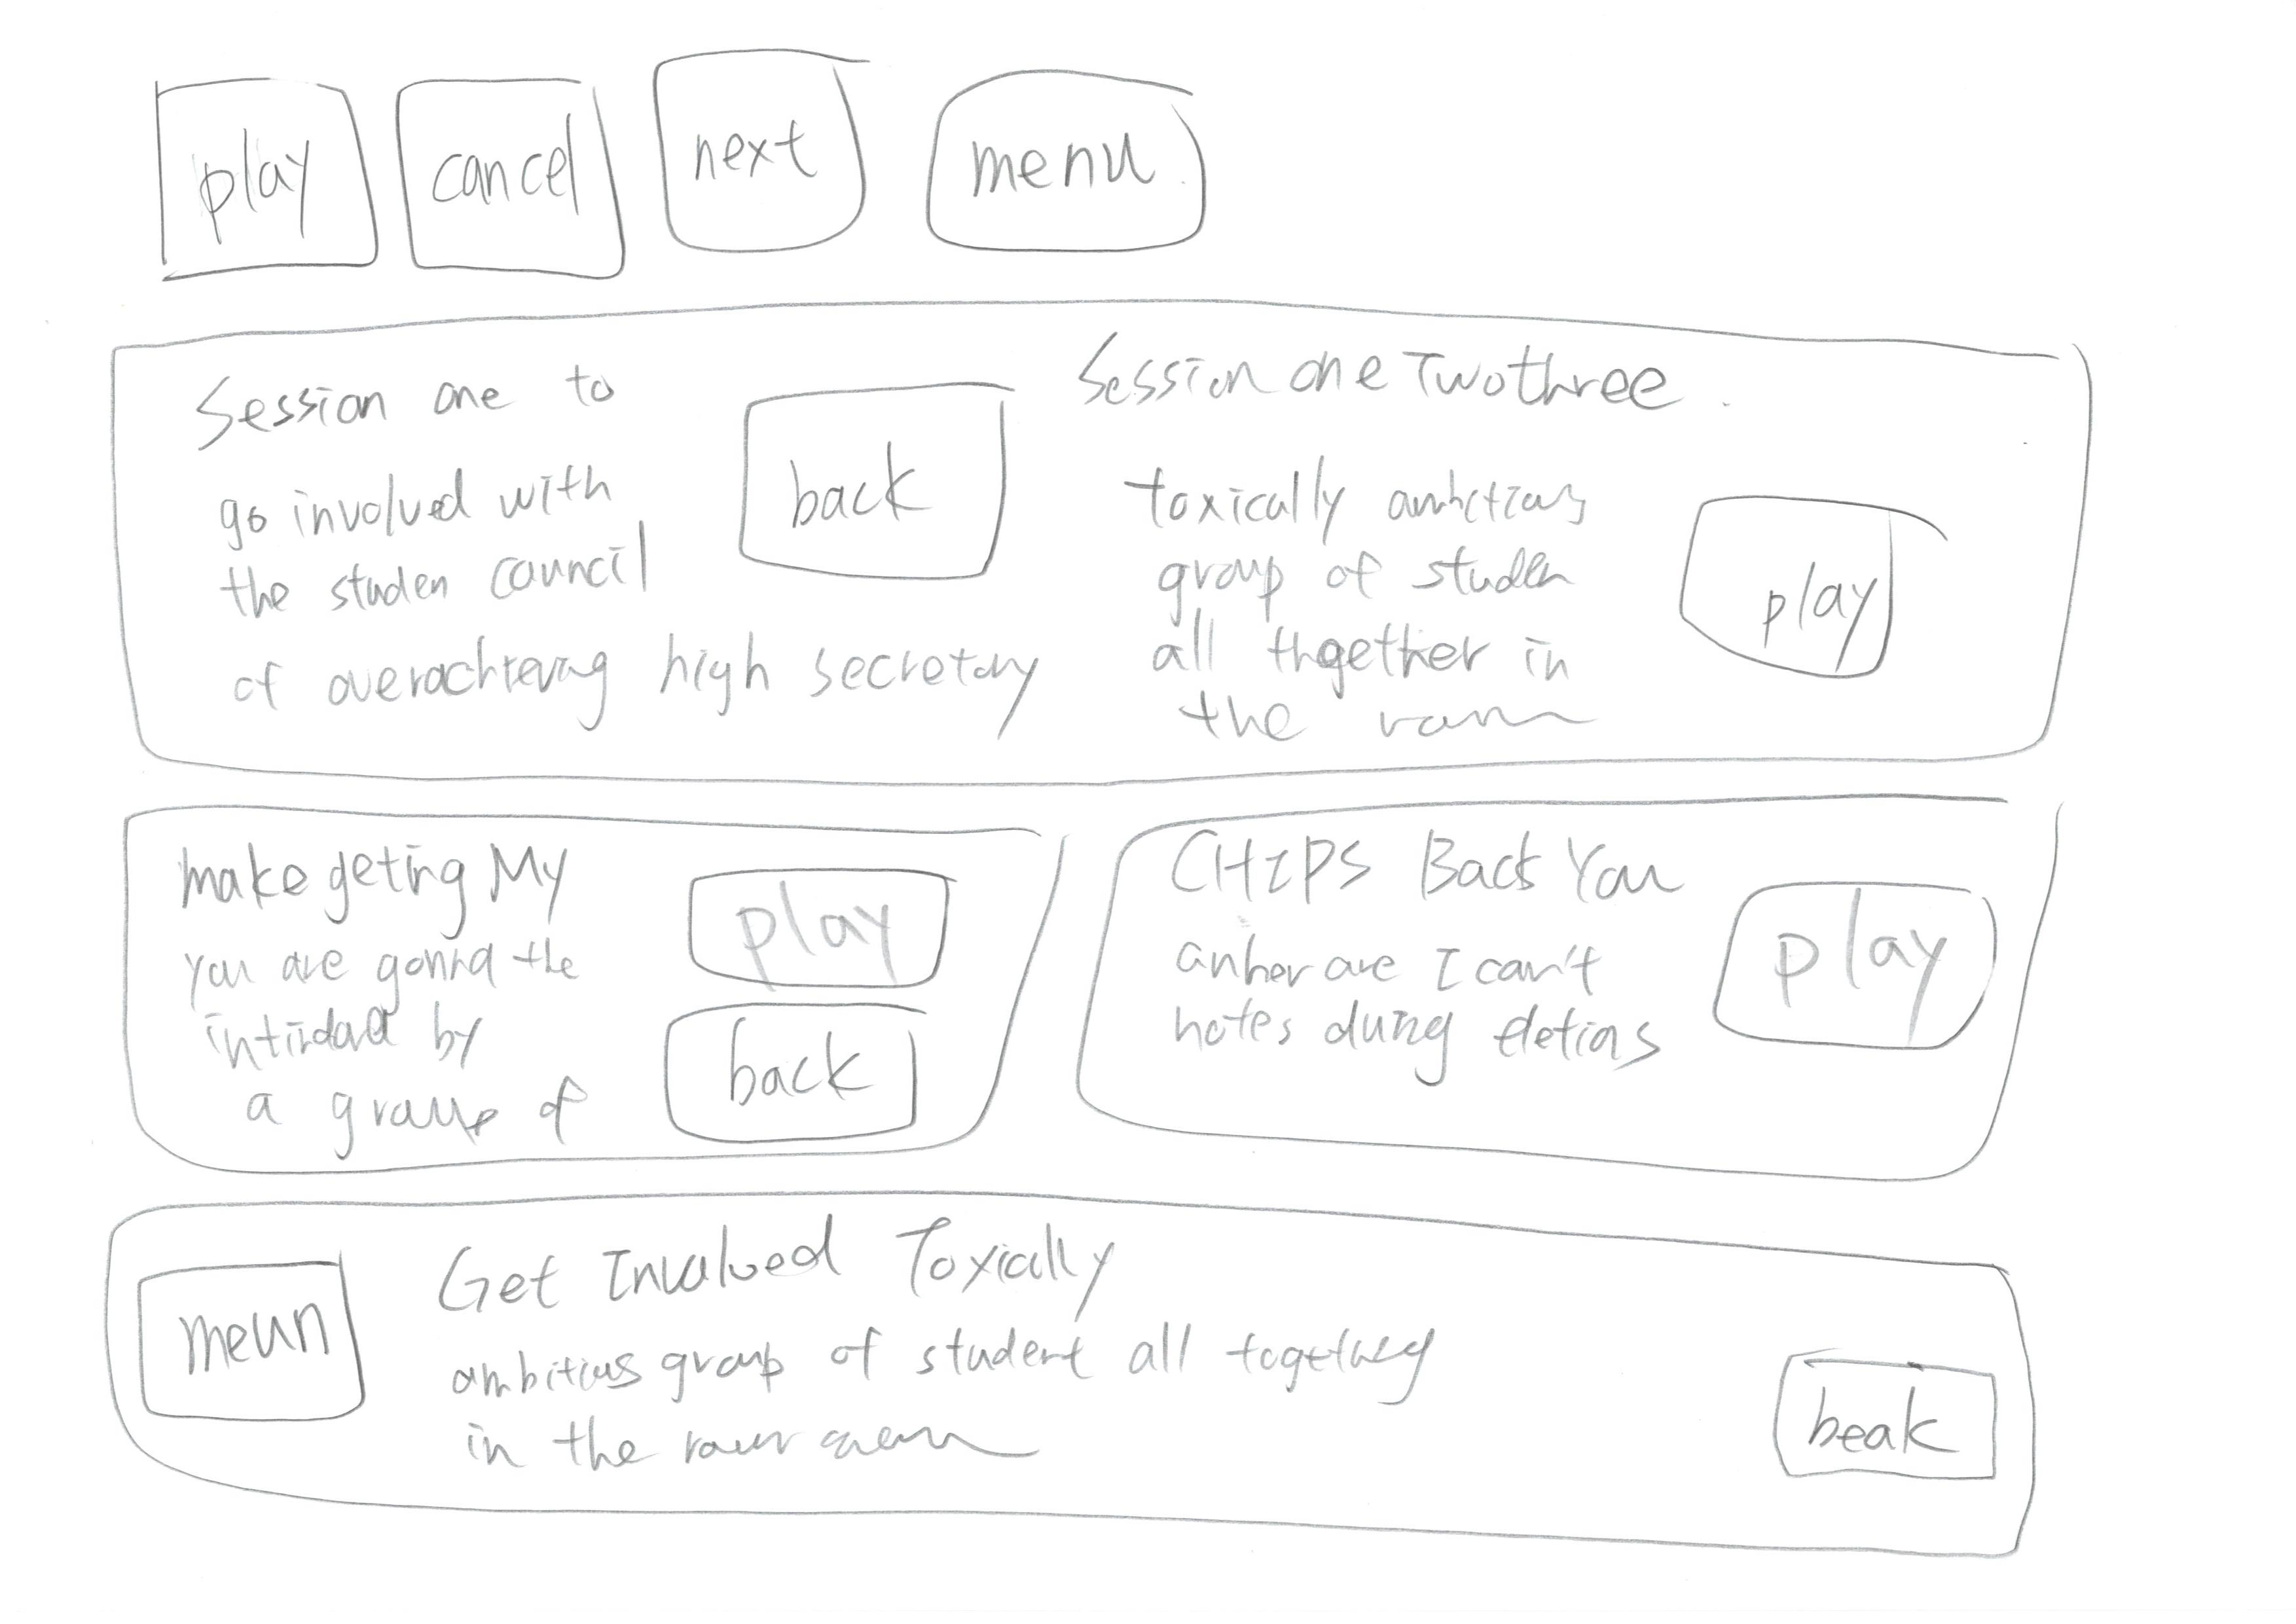back: (701, 367, 1071, 629), (622, 990, 958, 1155), (1760, 1323, 2050, 1497)
cancel: (367, 19, 643, 308)
double: (1067, 780, 2104, 1206), (51, 765, 1083, 1169)
menu: (900, 54, 1261, 288), (109, 1246, 392, 1455)
next: (631, 28, 893, 279)
play: (1651, 478, 1967, 715), (1691, 863, 2032, 1081), (121, 46, 397, 292), (628, 849, 999, 1005)
row: (39, 285, 2296, 801), (39, 1149, 2296, 1624), (39, 754, 2296, 1227), (35, 2, 2294, 306)
single: (62, 283, 2196, 794), (4, 1155, 2175, 1591)
small-title: (396, 1185, 1146, 1316), (1094, 329, 1698, 434), (1153, 810, 1672, 916), (141, 824, 594, 926), (151, 350, 629, 434)
text: (434, 1318, 1457, 1482), (1132, 448, 1660, 758), (206, 453, 665, 731), (1150, 944, 1719, 1098), (178, 939, 621, 1137), (510, 606, 1074, 754)
